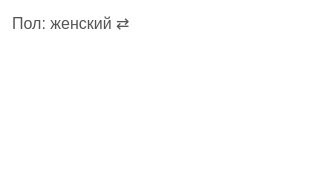
CheckboxPol › переключает пол и подпись
Click the checkbox with id "checkbox-pol-pol".
click(71, 24)  # box [12,14,129,33]
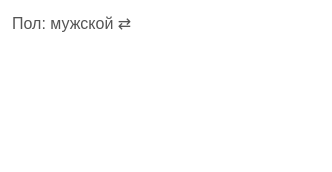
Result: the checkbox with class "checkbox__pol" reads "Пол: мужской ⇄" at [12,15,131,32]
